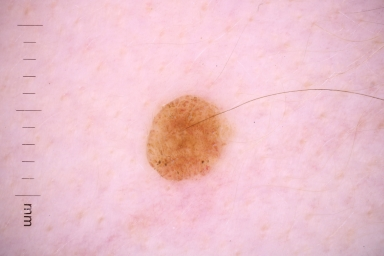nevus: (146, 97, 225, 180)
